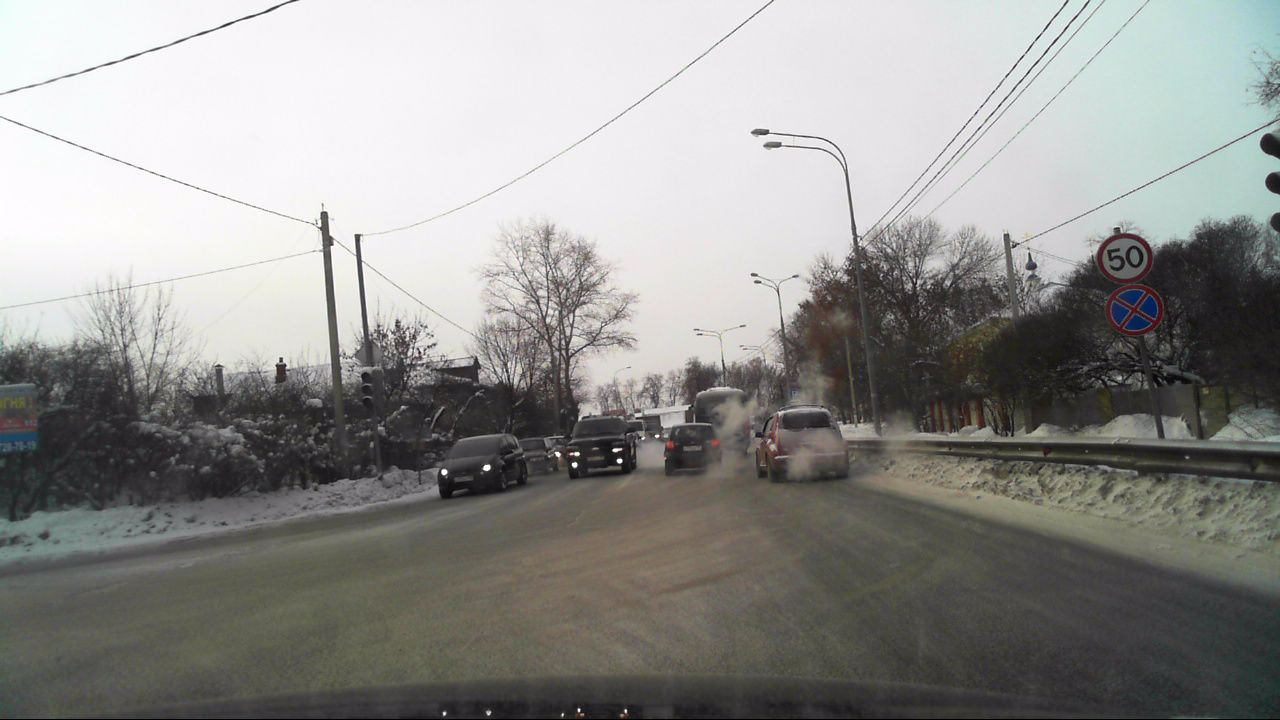No Parking: (1106, 284, 1160, 335)
